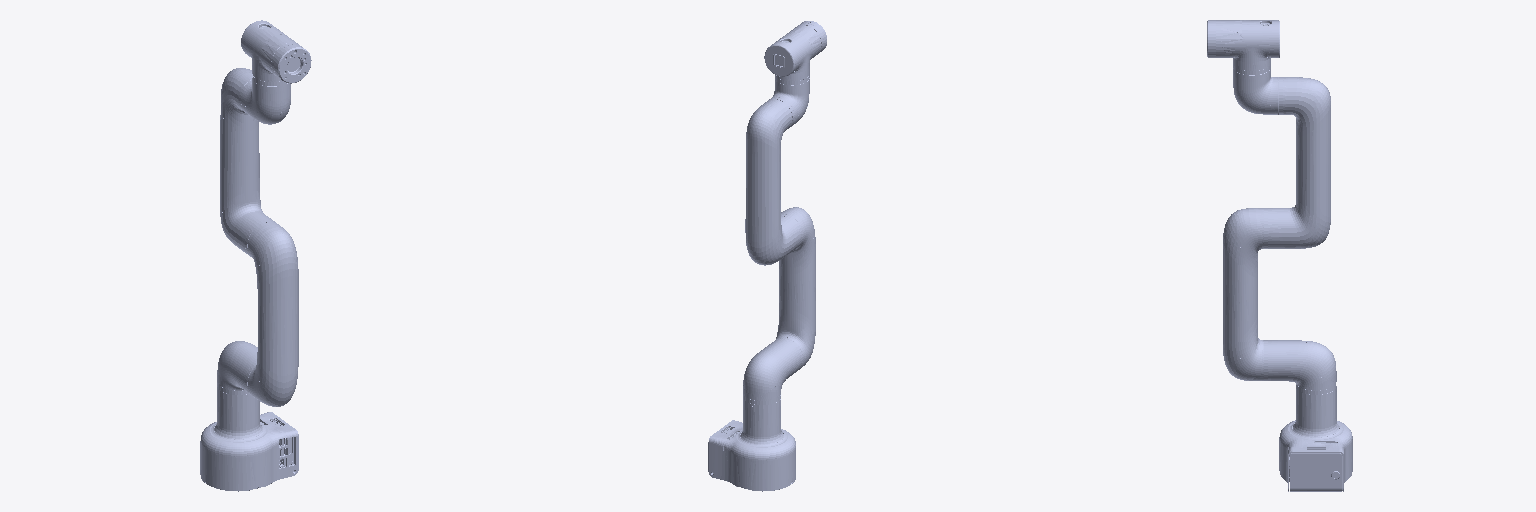
robot.urdf — myCobot_Pro_600_230708:
<?xml version="1.0" encoding="utf-8"?>
<!-- This URDF was automatically created by SolidWorks to URDF Exporter! Originally created by [author] ([email redacted]) 
     Commit Version: 1.6.0-4-g7f85cfe  Build Version: 1.6.7995.38578
     For more information, please see http://wiki.ros.org/sw_urdf_exporter -->
<robot
  name="myCobot_Pro_600_230708">
  <link
    name="base_link">
    <inertial>
      <origin
        xyz="0.0079271 -0.00021999 0.079876"
        rpy="0 0 0" />
      <mass
        value="0.67481" />
      <inertia
        ixx="0.0016132"
        ixy="-8.9696E-06"
        ixz="-6.843E-05"
        iyy="0.0015205"
        iyz="3.7354E-07"
        izz="0.0009498" />
    </inertial>
    <visual>
      <origin
        xyz="0 0 0"
        rpy="0 0 0" />
      <geometry>
        <mesh
          filename="meshes\base_link.STL" />
      </geometry>
      <material
        name="">
        <color
          rgba="0.79216 0.81961 0.93333 1" />
      </material>
    </visual>
    <collision>
      <origin
        xyz="0 0 0"
        rpy="0 0 0" />
      <geometry>
        <mesh
          filename="meshes\base_link.STL" />
      </geometry>
    </collision>
  </link>
  <link
    name="link1">
    <inertial>
      <origin
        xyz="2.1277E-06 -0.031707 0.040848"
        rpy="0 0 0" />
      <mass
        value="0.233" />
      <inertia
        ixx="0.00035212"
        ixy="7.264E-09"
        ixz="-6.7101E-09"
        iyy="0.00022966"
        iyz="5.3637E-05"
        izz="0.00033375" />
    </inertial>
    <visual>
      <origin
        xyz="0 0 0"
        rpy="0 0 0" />
      <geometry>
        <mesh
          filename="meshes\link1.STL" />
      </geometry>
      <material
        name="">
        <color
          rgba="0.79216 0.81961 0.93333 1" />
      </material>
    </visual>
    <collision>
      <origin
        xyz="0 0 0"
        rpy="0 0 0" />
      <geometry>
        <mesh
          filename="meshes\link1.STL" />
      </geometry>
    </collision>
  </link>
  <joint
    name="Joint1"
    type="revolute">
    <origin
      xyz="0.0010791 0 0.1613"
      rpy="0 0 0" />
    <parent
      link="base_link" />
    <child
      link="link1" />
    <axis
      xyz="0 0 1" />
    <limit
      lower="-3.14"
      upper="3.14"
      effort="0"
      velocity="0" />
  </joint>
  <link
    name="Link2">
    <inertial>
      <origin
        xyz="-0.12544 -1.0885E-07 0.045584"
        rpy="0 0 0" />
      <mass
        value="0.46759" />
      <inertia
        ixx="0.00029513"
        ixy="2.1107E-07"
        ixz="6.2176E-08"
        iyy="0.0033213"
        iyz="9.2619E-09"
        izz="0.003398" />
    </inertial>
    <visual>
      <origin
        xyz="0 0 0"
        rpy="0 0 0" />
      <geometry>
        <mesh
          filename="meshes\Link2.STL" />
      </geometry>
      <material
        name="">
        <color
          rgba="0.79216 0.81961 0.93333 1" />
      </material>
    </visual>
    <collision>
      <origin
        xyz="0 0 0"
        rpy="0 0 0" />
      <geometry>
        <mesh
          filename="meshes\Link2.STL" />
      </geometry>
    </collision>
  </link>
  <joint
    name="Joint2"
    type="revolute">
    <origin
      xyz="0 -0.0815 0.048"
      rpy="1.5708 1.5708 0" />
    <parent
      link="link1" />
    <child
      link="Link2" />
    <axis
      xyz="0 0 1" />
    <limit
      lower="-4.71"
      upper="1.57"
      effort="0"
      velocity="0" />
  </joint>
  <link
    name="Link3">
    <inertial>
      <origin
        xyz="-0.1280957372574 0.000196679934896904 -0.0739770755509075"
        rpy="0 0 0" />
      <mass
        value="0.610849978069838" />
      <inertia
        ixx="0.000343678370714938"
        ixy="1.32490637719178E-05"
        ixz="-0.000162869580771304"
        iyy="0.00397744693740067"
        iyz="2.68960234213695E-07"
        izz="0.00404466439515321" />
    </inertial>
    <visual>
      <origin
        xyz="0 0 0"
        rpy="0 0 0" />
      <geometry>
        <mesh
          filename="meshes\Link3.STL" />
      </geometry>
      <material
        name="">
        <color
          rgba="0.792156862745098 0.819607843137255 0.933333333333333 1" />
      </material>
    </visual>
    <collision>
      <origin
        xyz="0 0 0"
        rpy="0 0 0" />
      <geometry>
        <mesh
          filename="meshes\Link3.STL" />
      </geometry>
    </collision>
  </link>
  <joint
    name="Joint3"
    type="revolute">
    <origin
      xyz="-0.25 0 0.0078003"
      rpy="0 0 0" />
    <parent
      link="Link2" />
    <child
      link="Link3" />
    <axis
      xyz="0 0 1" />
    <limit
      lower="-2.61"
      upper="2.61"
      effort="0"
      velocity="0" />
  </joint>
  <link
    name="Link4">
    <inertial>
      <origin
        xyz="0.000451153554830226 -0.0197043732761449 0.042013063084008"
        rpy="0 0 0" />
      <mass
        value="0.143946980002621" />
      <inertia
        ixx="7.66118811015413E-05"
        ixy="6.23901181466462E-07"
        ixz="-1.05177948304585E-07"
        iyy="9.69506366426813E-05"
        iyz="5.42656388625233E-06"
        izz="6.51760979548038E-05" />
    </inertial>
    <visual>
      <origin
        xyz="0 0 0"
        rpy="0 0 0" />
      <geometry>
        <mesh
          filename="meshes\Link4.STL" />
      </geometry>
      <material
        name="">
        <color
          rgba="0.792156862745098 0.819607843137255 0.933333333333333 1" />
      </material>
    </visual>
    <collision>
      <origin
        xyz="0 0 0"
        rpy="0 0 0" />
      <geometry>
        <mesh
          filename="meshes\Link4.STL" />
      </geometry>
    </collision>
  </link>
  <joint
    name="Joint4"
    type="revolute">
    <origin
      xyz="-0.25 0 -0.0253"
      rpy="0 0 -1.5708" />
    <parent
      link="Link3" />
    <child
      link="Link4" />
    <axis
      xyz="0 0 1" />
    <limit
      lower="-4.53"
      upper="1.39"
      effort="0"
      velocity="0" />
  </joint>
  <link
    name="Link5">
    <inertial>
      <origin
        xyz="0.0205010906761461 0.00010373072039811 0.0509688530646235"
        rpy="0 0 0" />
      <mass
        value="0.209121230720947" />
      <inertia
        ixx="0.000140702156886984"
        ixy="-3.5192188177773E-07"
        ixz="-1.7138270492691E-05"
        iyy="0.000117850051515568"
        iyz="-1.30797771287935E-07"
        izz="0.000110784178232256" />
    </inertial>
    <visual>
      <origin
        xyz="0 0 0"
        rpy="0 0 0" />
      <geometry>
        <mesh
          filename="meshes\Link5.STL" />
      </geometry>
      <material
        name="">
        <color
          rgba="0.792156862745098 0.819607843137255 0.933333333333333 1" />
      </material>
    </visual>
    <collision>
      <origin
        xyz="0 0 0"
        rpy="0 0 0" />
      <geometry>
        <mesh
          filename="meshes\Link5.STL" />
      </geometry>
    </collision>
  </link>
  <joint
    name="Joint5"
    type="revolute">
    <origin
      xyz="0 -0.0537 0.0455"
      rpy="1.5708 -1.5708 0" />
    <parent
      link="Link4" />
    <child
      link="Link5" />
    <axis
      xyz="0 0 1" />
    <limit
      lower="-3.03"
      upper="3.03"
      effort="0"
      velocity="0" />
  </joint>
  <link
    name="Link6">
    <inertial>
      <origin
        xyz="-3.6855E-16 3.9862E-09 0.0039"
        rpy="0 0 0" />
      <mass
        value="0.0015438" />
      <inertia
        ixx="7.7393E-07"
        ixy="2.9626E-27"
        ixz="2.9025E-21"
        iyy="7.7393E-07"
        iyz="7.7504E-13"
        izz="1.5322E-06" />
    </inertial>
    <visual>
      <origin
        xyz="0 0 0"
        rpy="0 0 0" />
      <geometry>
        <mesh
          filename="meshes\Link6.STL" />
      </geometry>
      <material
        name="">
        <color
          rgba="0.79216 0.81961 0.93333 1" />
      </material>
    </visual>
    <collision>
      <origin
        xyz="0 0 0"
        rpy="0 0 0" />
      <geometry>
        <mesh
          filename="meshes\Link6.STL" />
      </geometry>
    </collision>
  </link>
  <joint
    name="Joint6"
    type="revolute">
    <origin
      xyz="0.053197 0 0.0533"
      rpy="-1.5708 0 -1.5708" />
    <parent
      link="Link5" />
    <child
      link="Link6" />
    <axis
      xyz="0 0 1" />
    <limit
      lower="-2.93"
      upper="2.93"
      effort="0"
      velocity="0" />
  </joint>
</robot>

--- Facts derived from the render (not from the file) ---
Views: 3 orthographic renders of the robot side by side, from view 1: azimuth 30°, elevation 25°; view 2: azimuth 150°, elevation 25°; view 3: azimuth 270°, elevation 25°.
Model myCobot_Pro_600_230708 with 7 links and 6 joints (6 revolute), rooted at base_link, posed all joints at 0.
Visible links, largest first — view 1: Link2, base_link, Link3, Link5, Link4, link1; view 2: Link3, base_link, Link2, link1, Link5, Link4; view 3: Link3, Link2, base_link, link1, Link5, Link4.
Boxes of the visible links, x1,y1,x2,y2 form: Link2: (245,220,298,406); base_link: (200,383,298,491); Link3: (220,68,274,253); Link5: (241,20,311,83); Link4: (241,76,290,124); link1: (217,341,257,394); Link3: (745,97,800,265); base_link: (708,395,795,491); Link2: (776,207,815,369); link1: (743,338,802,400); Link5: (764,21,826,80); Link4: (772,74,809,126); Link3: (1268,77,1330,248); Link2: (1223,208,1267,380); base_link: (1279,385,1352,491); link1: (1264,340,1336,390); Link5: (1207,20,1279,70); Link4: (1233,64,1278,114).
Size in the robot's own frame: 0.15 by 0.2487 by 0.849 metres.
7 mesh visuals loaded from 7 distinct referenced files (7 binary STL).